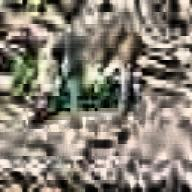boar: (0, 0, 192, 128)
